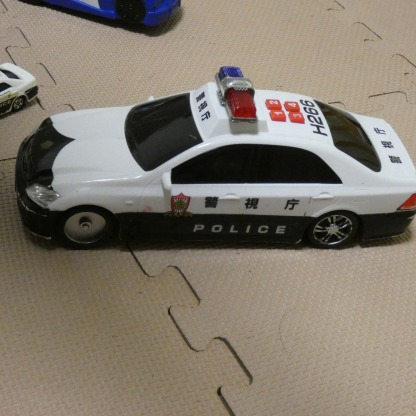car: (21, 68, 416, 249), (0, 61, 40, 119)
